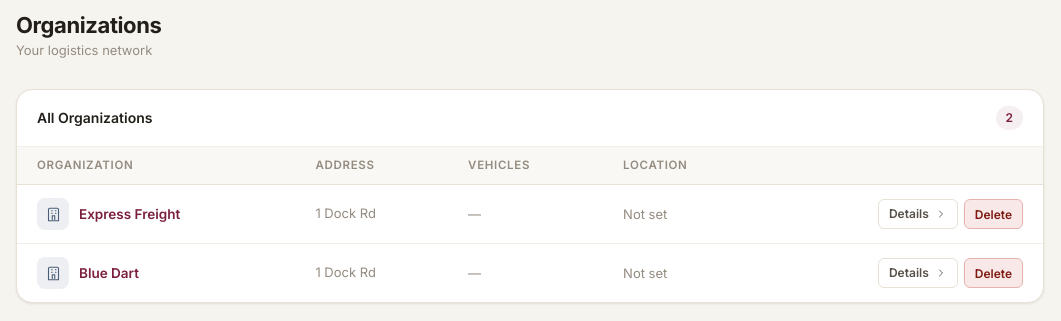
Test: Organizations page › deletes an organization after confirmation and drops it from the table
Check: the link "Express Freight" is shown, box [79,204,180,224]
Click the button "Delete" in the row of "Express Freight" at point(993, 214), box [964,199,1023,229]
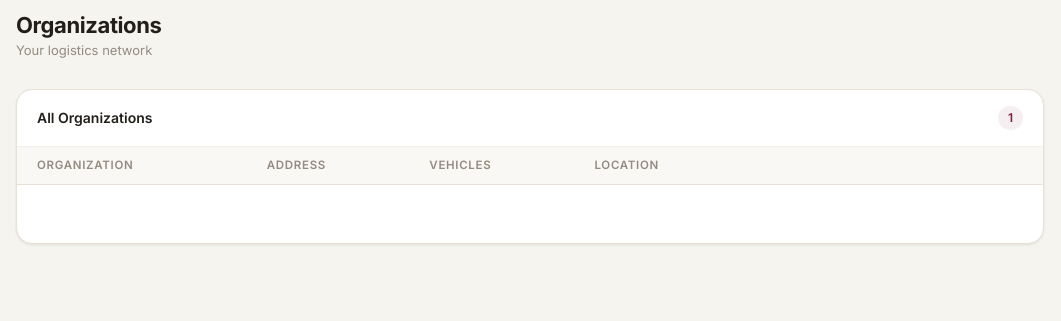
Check: the link "Express Freight" is gone
